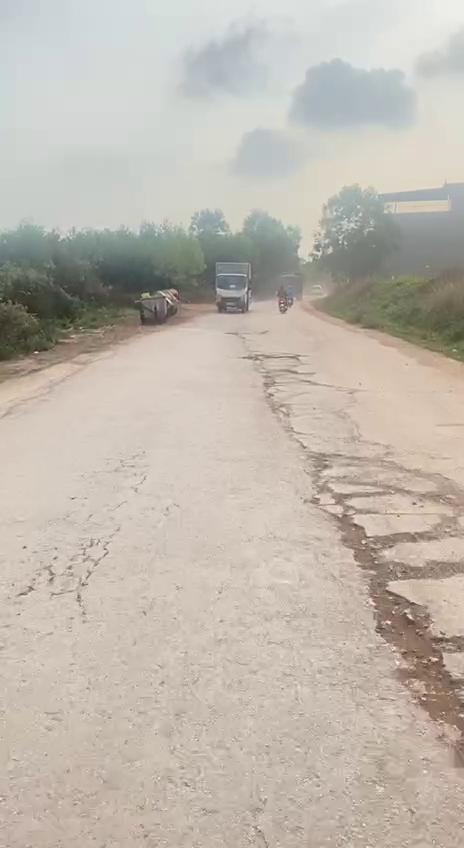pothole: (306, 458, 464, 728)
